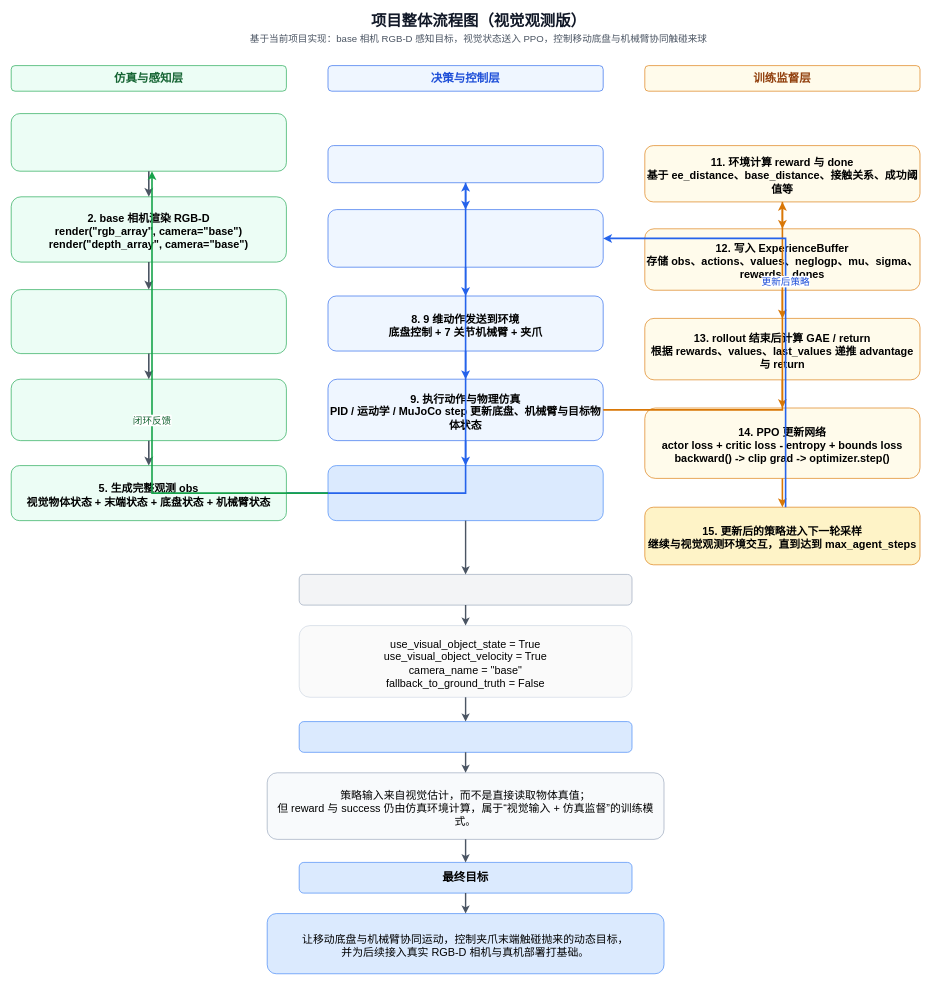
The diagram is 931 pixels wide and 985 high, and some of its shapes have lost their labels. The shapes that lost their labels are listed below. From the top down, each one's box as (x1, y1, x2, y2) in pixels, then its label:
(11, 113, 286, 171): 1. MuJoCo / DcmmVecEnv 环境 包含 tidybot、目标物体、动力学、碰撞、随机抛球与回合管理
(327, 145, 603, 183): 6. RunningMeanStd 标准化观测
(327, 209, 603, 267): 7. Actor-Critic 前向推理 输出 actions、values、neglogp、mu、sigma
(11, 289, 286, 354): 3. 视觉状态估计 RGB-D -> 红球检测 -> 深度统计 -> 反投影 -> 3D 跟踪
(11, 379, 286, 441): 4. 构造视觉物体状态 object.pos3d = visual pos3d object.v_lin_3d = visual v_lin_3d
(327, 465, 603, 521): 10. 形成闭环 新状态再次被 base 相机观测，进入下一步决策
(299, 574, 632, 605): 当前正式视觉配置
(299, 721, 632, 752): 项目核心特点
